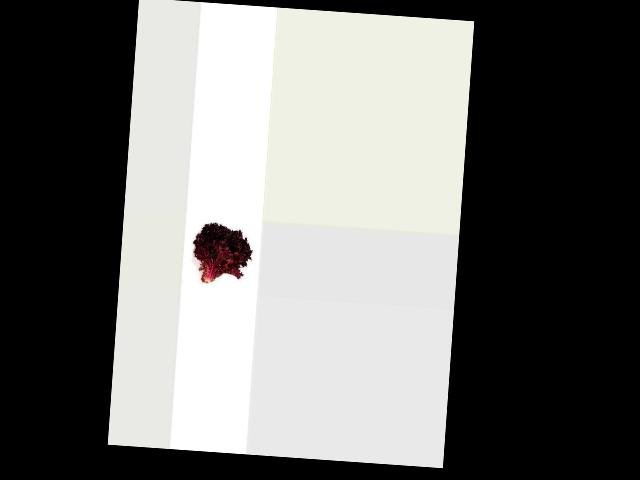lettuce: (192, 218, 255, 292)
